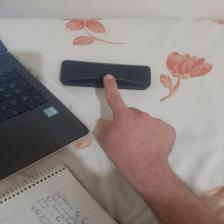one: (92, 70, 180, 186)
